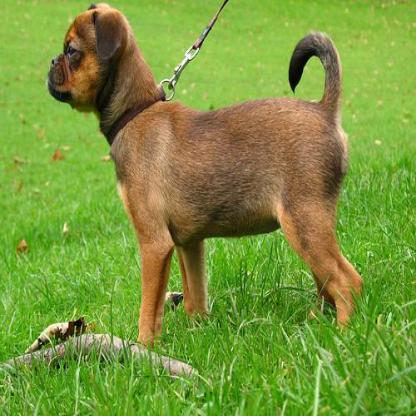Brabancon_griffon: (45, 0, 364, 347)
